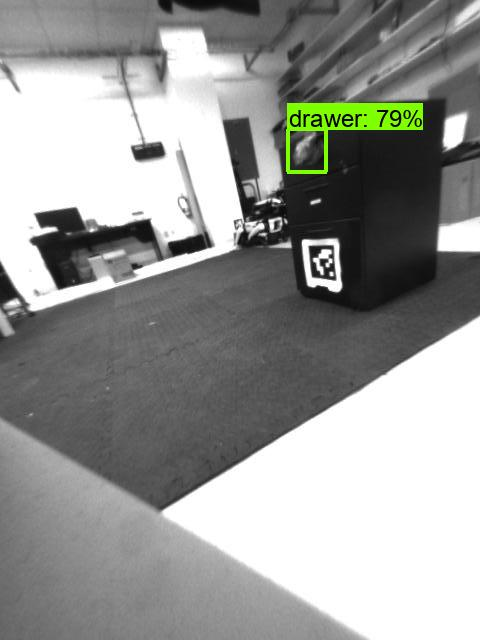drawer: (287, 130, 328, 170)
